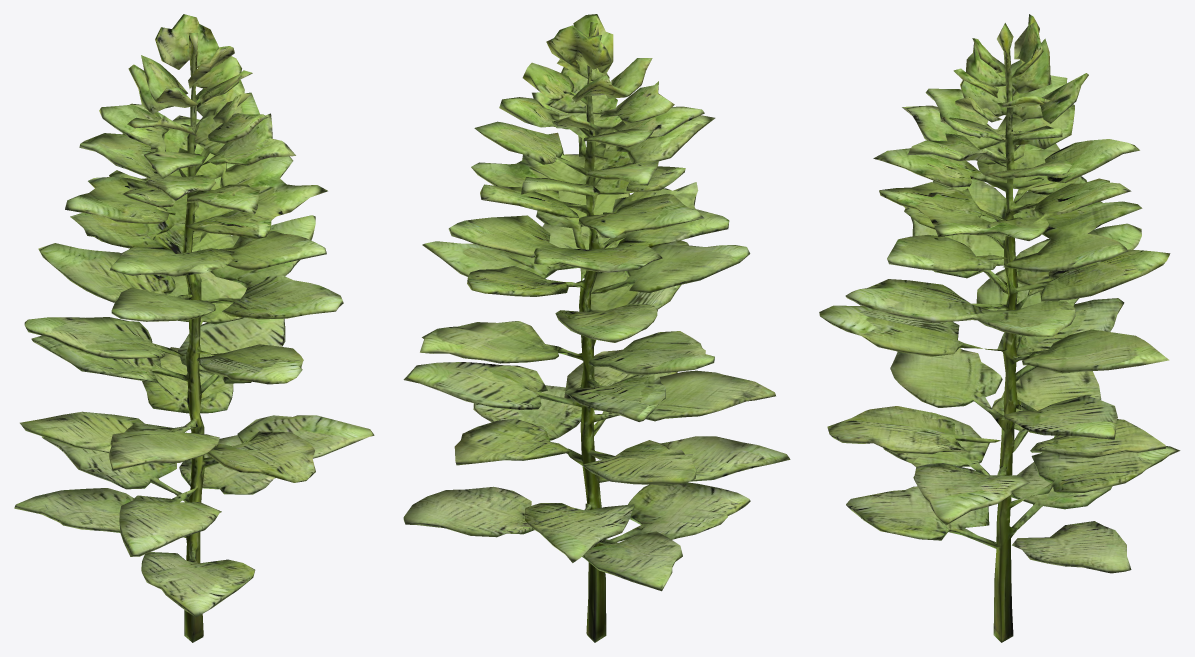
3 renders of one model, left to right at view 1: azimuth 30°, elevation 25°; view 2: azimuth 150°, elevation 25°; view 3: azimuth 270°, elevation 25°, orthographic.
Parts seen in each view (by area): view 1: Mesh1.0; view 2: Mesh1.0; view 3: Mesh1.0.
Boxes of the visible parts, x1,y1,x2,y2 form: Mesh1.0: [14, 14, 374, 642]; Mesh1.0: [403, 14, 790, 642]; Mesh1.0: [819, 14, 1180, 642].
Size of the model in its own units: 101 by 200 by 106.
Materials: 1 (1 with a texture image).
